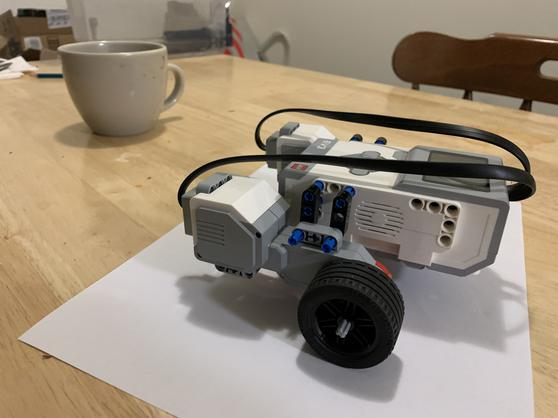robot: (176, 105, 544, 371)
